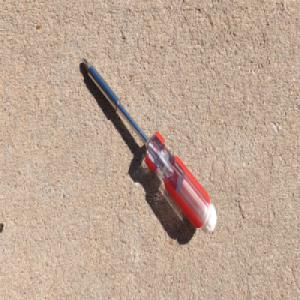Screwdriver: (80, 56, 218, 237)
